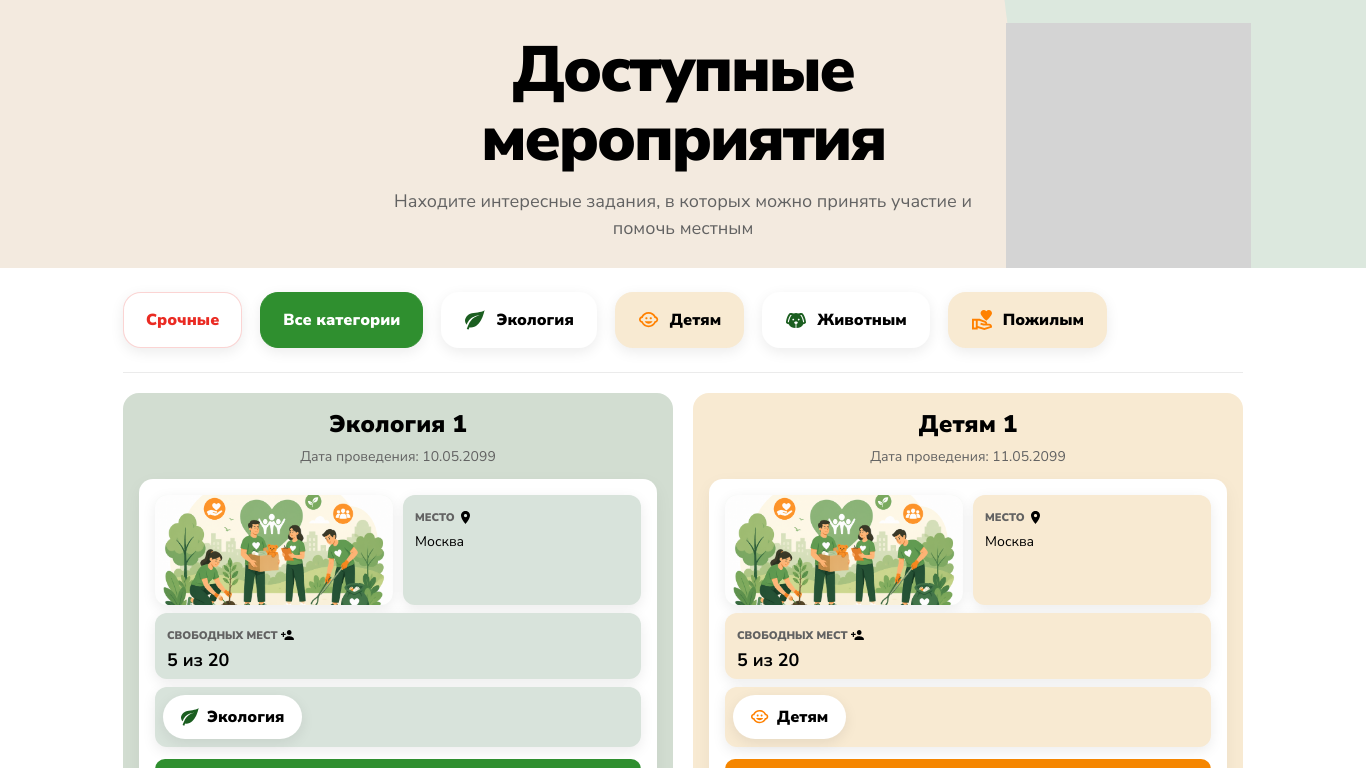
Scenario: EventsPage › requests events by category when filter changes
Check: the heading "Экология 1" is shown, box [329,408,467,440]
Check: the heading "Детям 1" is shown, box [919,408,1017,440]
Click the button "Детям" at (679,320), box [615,292,744,348]
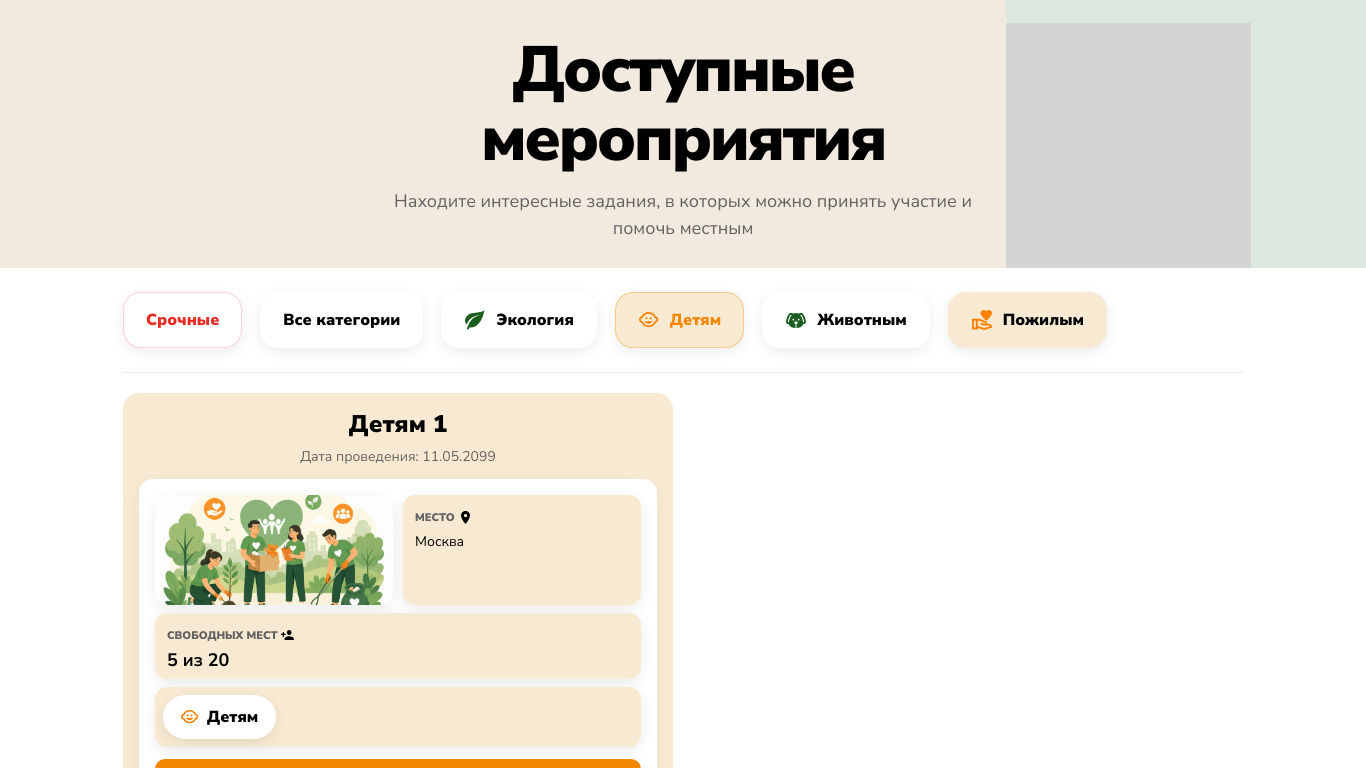
Check: the heading "Детям 1" is shown, box [349,408,447,440]
Check: the heading "Экология 1" is gone
